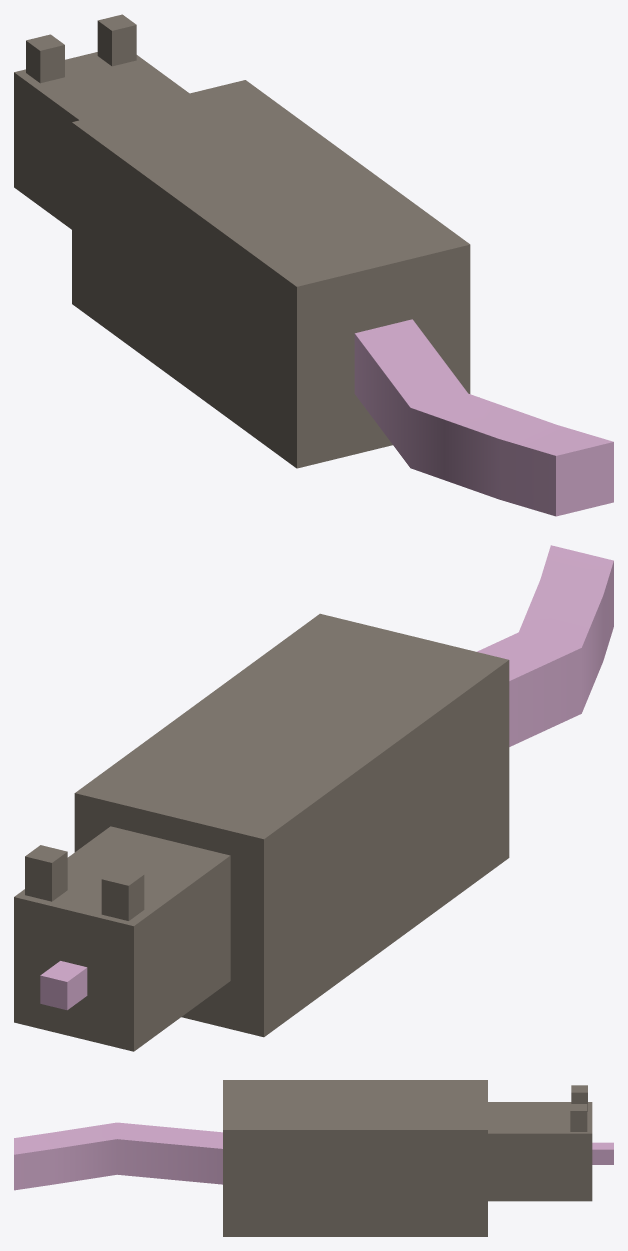
The model's file is rat.fbx.
3 renders of one model, top to bottom at view 1: azimuth 30°, elevation 25°; view 2: azimuth 150°, elevation 25°; view 3: azimuth 270°, elevation 25°, orthographic. The views are drawn at different scales.
Parts seen in each view (by area): view 1: pCube24; view 2: pCube24; view 3: pCube24.
Boxes of the visible parts, x1,y1,x2,y2 form: pCube24: (14, 14, 613, 516); pCube24: (14, 545, 613, 1051); pCube24: (14, 1080, 613, 1236).
Size of the model in its own units: 0.2946 by 0.3158 by 1.5.
